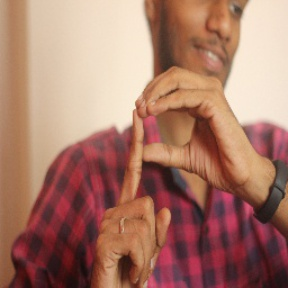P: (87, 65, 244, 279)
